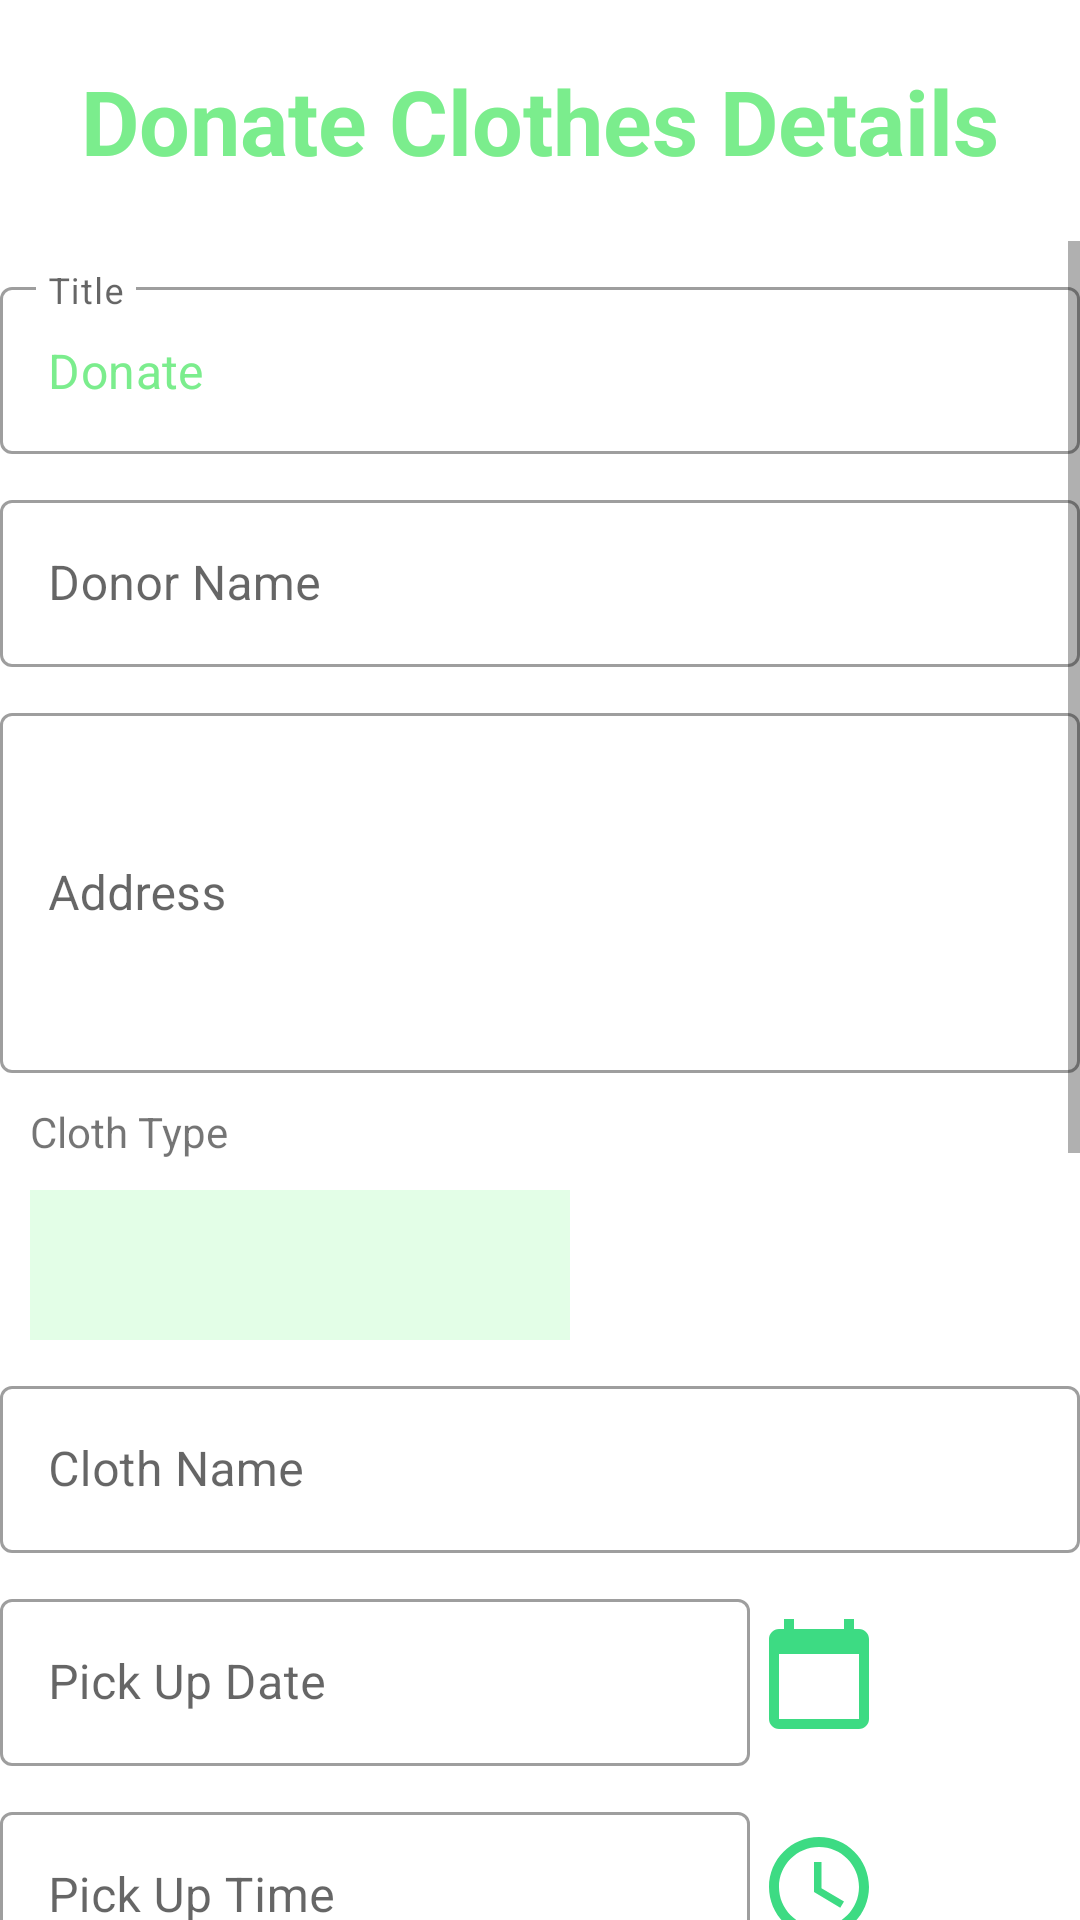

Point at icon controls on the screen. Image size 1080 x 1920, points as [x,y].
calendar today: [819,1674]
